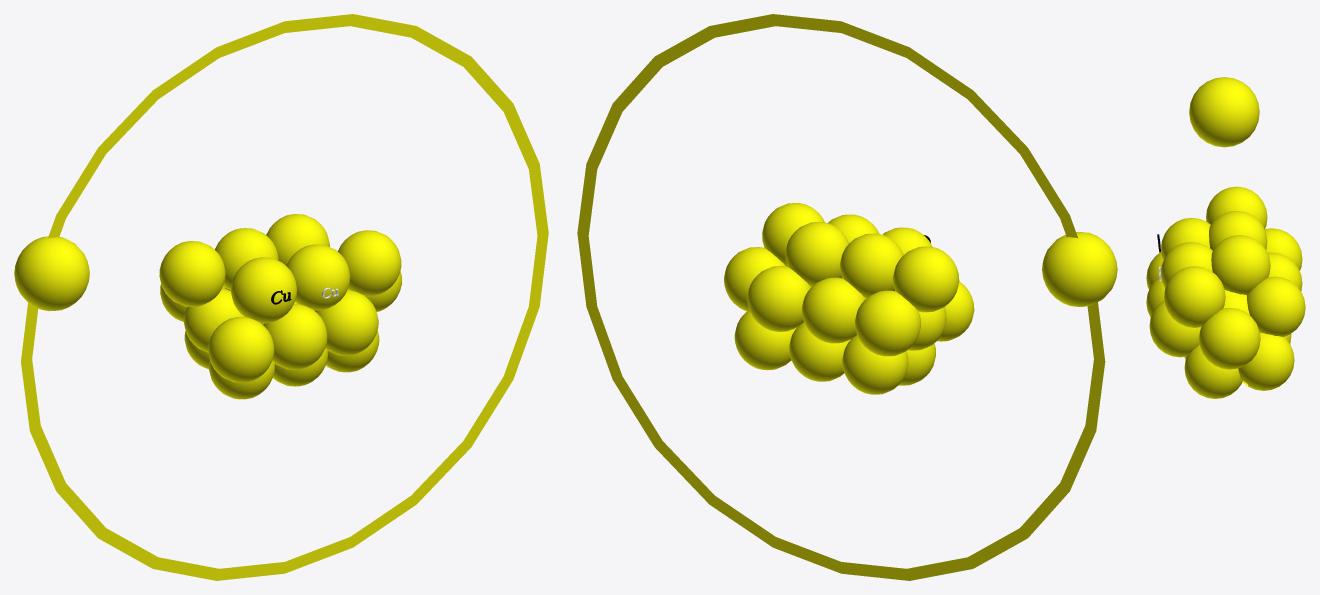
File: fatty.fbx
3 views of the same model, side by side, from view 1: azimuth 30°, elevation 25°; view 2: azimuth 150°, elevation 25°; view 3: azimuth 270°, elevation 25° (orthographic). The views are drawn at different scales.
Visible parts, largest first — view 1: _1139; view 2: _1139; view 3: _1139.
Boxes of the visible parts, x1,y1,x2,y2 form: _1139: (14, 14, 548, 580); _1139: (577, 14, 1117, 580); _1139: (1146, 77, 1305, 398).
Size of the model in its own units: 2.2 by 2.18 by 0.6111.
